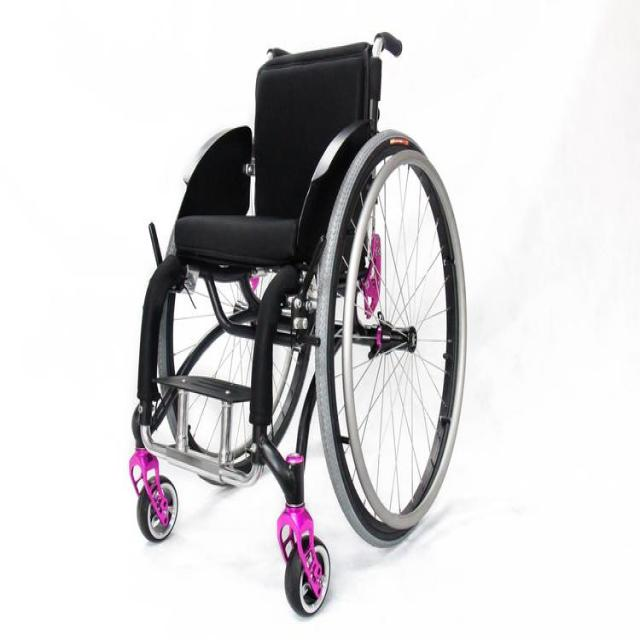wheelchairs: (110, 11, 476, 626)
